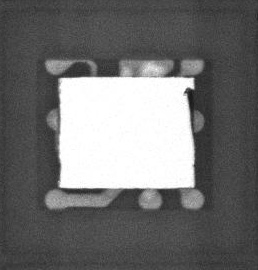DIE_BROKEN: (182, 86, 194, 152)
